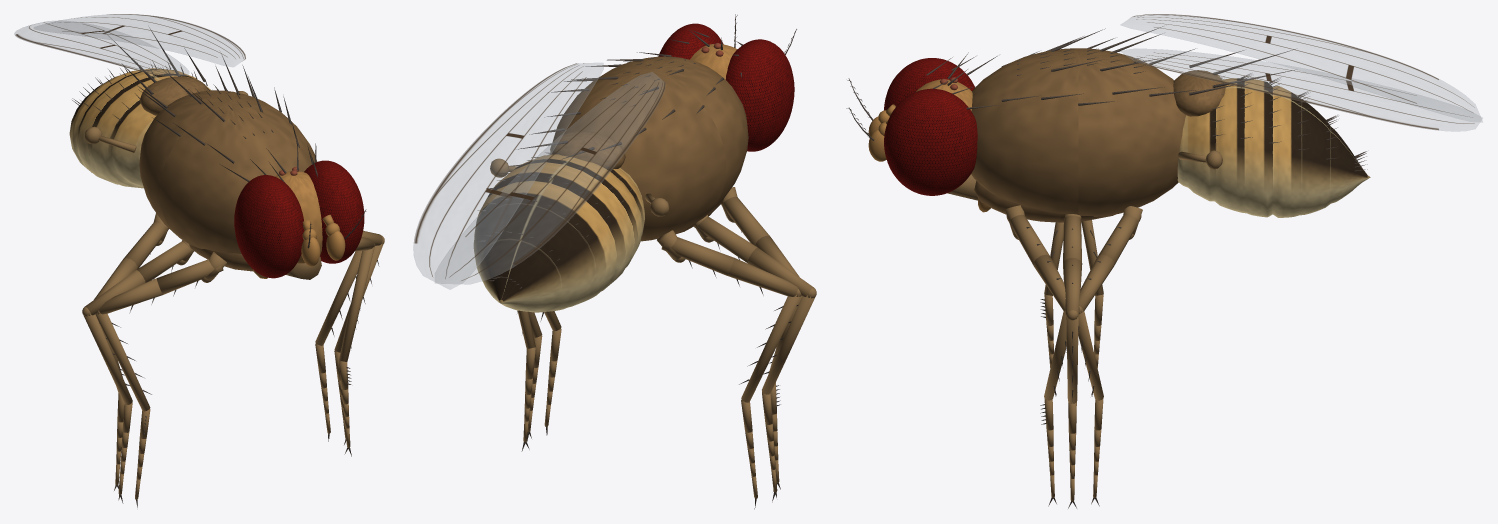
Rendered from fly_male.glb.
3 renders of one model, left to right at view 1: azimuth 30°, elevation 25°; view 2: azimuth 150°, elevation 25°; view 3: azimuth 270°, elevation 25°, orthographic. The views are drawn at different scales.
Visible parts, largest first — view 1: thorax, eyes, abdomen_mesh, wing_mesh_R, wing_mesh_L, femur_mesh_L1, tibia_mesh_R1, tibia_mesh_L1, femur_mesh_L2, tibia_mesh_L2, tibia_mesh_R3, thorax_bristles (+8 smaller); view 2: thorax, abdomen_mesh, wing_mesh_R, wing_mesh_L, eyes, femur_mesh_L3, femur_mesh_L2, tibia_mesh_L3, tibia_mesh_L2, femur_mesh_L1, thorax_bristles, tibia_mesh_R3 (+5 smaller); view 3: thorax, abdomen_mesh, wing_mesh_L, wing_mesh_R, eyes, thorax_bristles, femur_mesh_R3, femur_mesh_R2, femur_mesh_R1, tibia_mesh_R2, tibia_mesh_R3, tibia_mesh_R1 (+2 smaller).
Part boxes in pixels (x1,y1,x2,y2): thorax: (139,76,317,271); eyes: (234,160,364,278); abdomen_mesh: (69,68,210,188); wing_mesh_R: (34,14,245,66); wing_mesh_L: (14,20,189,76); femur_mesh_L1: (96,259,223,314); tibia_mesh_R1: (339,246,374,456); tibia_mesh_L1: (95,312,151,507); femur_mesh_L2: (82,241,194,316); tibia_mesh_L2: (84,314,132,503); tibia_mesh_R3: (315,251,361,441); thorax_bristles: (108,27,299,163); thorax: (550,56,748,241); abdomen_mesh: (473,154,644,312); wing_mesh_R: (413,63,603,289); wing_mesh_L: (435,72,665,284); eyes: (658,23,794,151); femur_mesh_L3: (661,237,801,296); femur_mesh_L2: (693,216,816,298); tibia_mesh_L3: (739,295,800,509); tibia_mesh_L2: (762,295,814,502); femur_mesh_L1: (721,196,799,276); thorax_bristles: (518,56,723,159); tibia_mesh_R3: (517,310,535,451); thorax: (971,48,1225,222); abdomen_mesh: (1177,78,1370,217); wing_mesh_L: (1121,14,1482,122); wing_mesh_R: (1120,48,1482,131); eyes: (884,58,977,195); thorax_bristles: (1001,26,1295,105); femur_mesh_R3: (1079,214,1141,313); femur_mesh_R2: (1063,215,1082,320); femur_mesh_R1: (1006,214,1065,311); tibia_mesh_R2: (1066,315,1078,508); tibia_mesh_R3: (1078,310,1103,506); tibia_mesh_R1: (1040,310,1066,506).
Size of the model in its own units: 2.54 by 3.13 by 4.36.
Materials: 8 (5 with a texture image).
